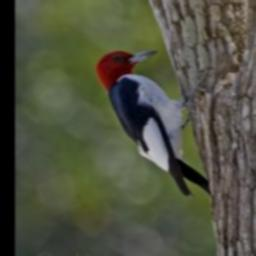Woodpecker: (91, 43, 217, 199)
